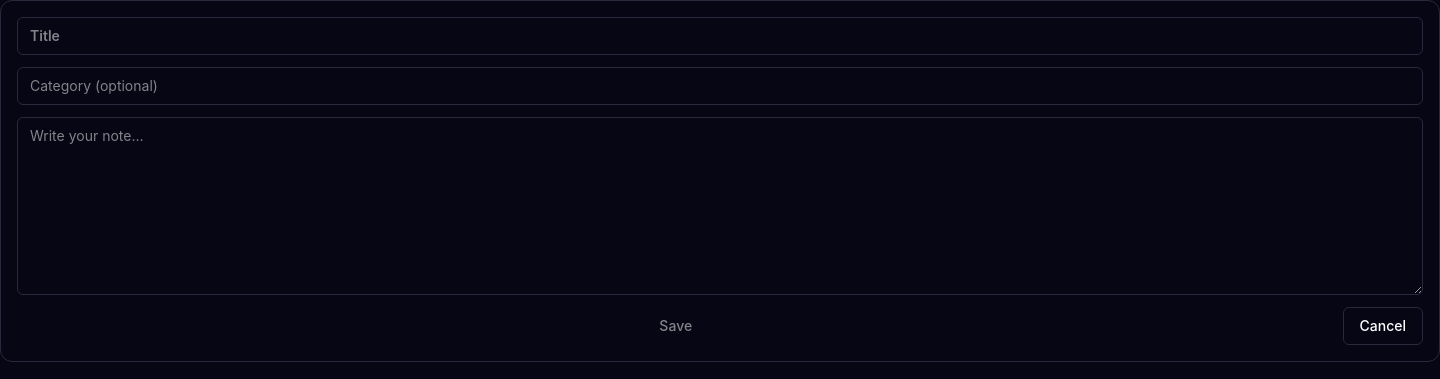
NoteEditor › Save is enabled after typing a title
Type "Hello" into the field named "note title". click: (720, 36)
box: [17,17,1423,55]
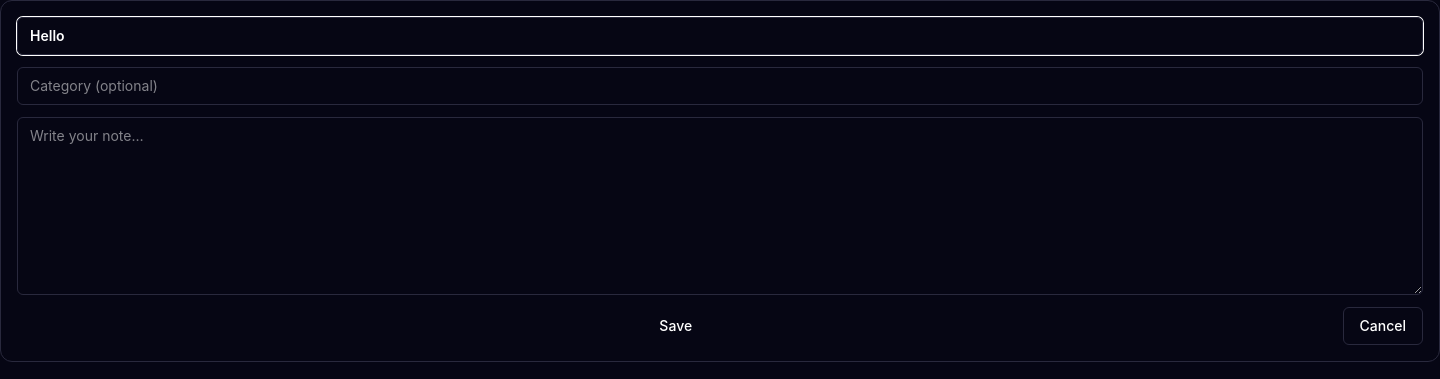
Result: the button "Save" is enabled at [17,307,1334,345]
